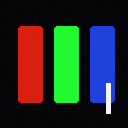4 line_v: (106, 83, 110, 113)
